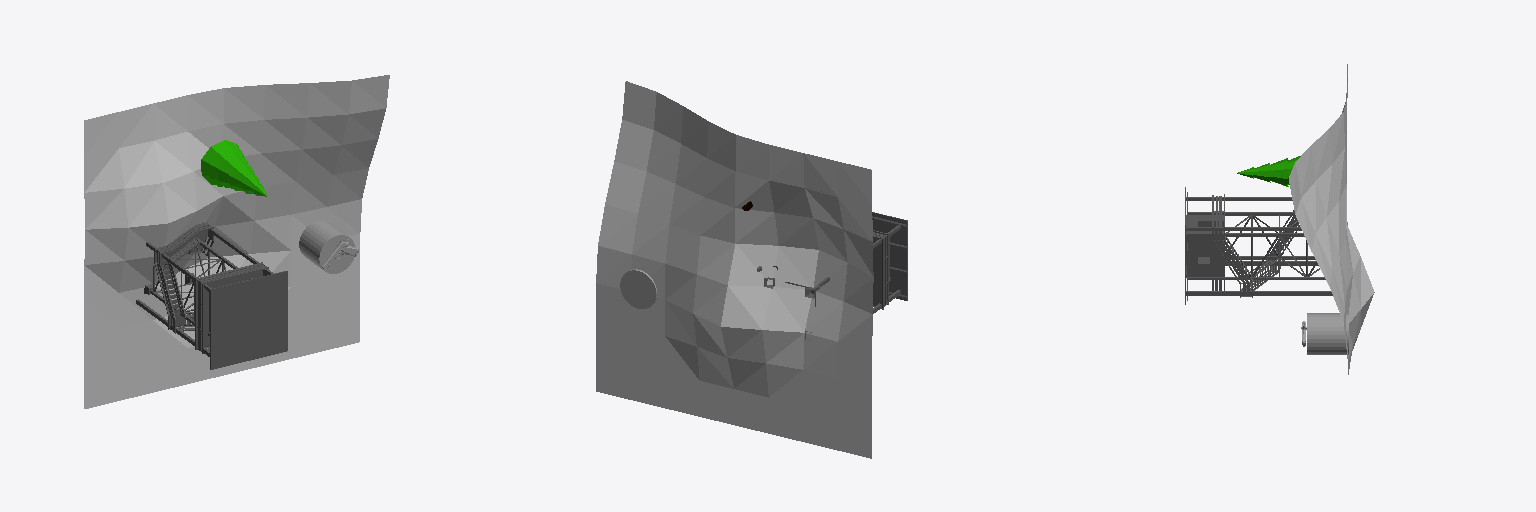
The model's file is nature.obj.
The picture shows the model from 3 angles: view 1: azimuth 30°, elevation 25°; view 2: azimuth 150°, elevation 25°; view 3: azimuth 270°, elevation 25°; orthographic projection.
Visible parts, largest first — view 1: Ground, tower, Tree, Cylinder; view 2: Ground, tower, Cylinder; view 3: Ground, tower, Cylinder, Tree.
Part boxes in pixels (bbox=[...]): Ground: bbox=[84, 75, 389, 408]; tower: bbox=[136, 222, 287, 369]; Tree: bbox=[201, 140, 266, 196]; Cylinder: bbox=[299, 221, 354, 273]; Ground: bbox=[596, 81, 873, 458]; tower: bbox=[757, 212, 907, 341]; Cylinder: bbox=[620, 269, 656, 308]; Ground: bbox=[1289, 64, 1374, 374]; tower: bbox=[1185, 187, 1332, 304]; Cylinder: bbox=[1307, 313, 1348, 354]; Tree: bbox=[1237, 156, 1300, 186].
Bounding box in the file's own units: 15.17 × 15.17 × 9.